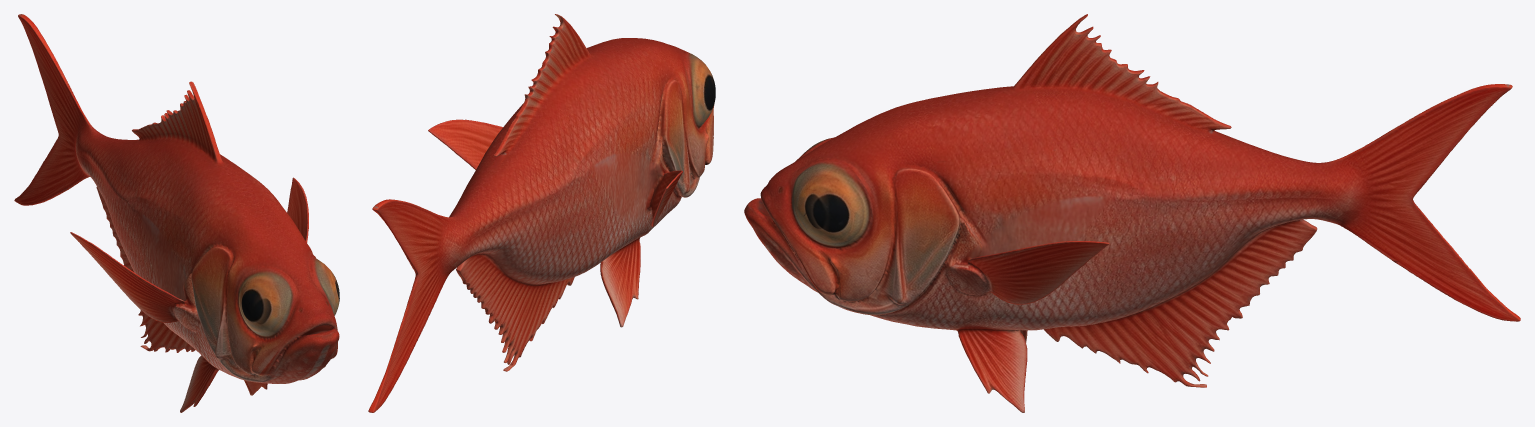
Rendered from kinmedai-22b647f37a82.glb.
3 renders of one model, left to right at view 1: azimuth 30°, elevation 25°; view 2: azimuth 150°, elevation 25°; view 3: azimuth 270°, elevation 25°, orthographic. The views are drawn at different scales.
Bounding box in the file's own units: 0.785 × 1.02 × 1.9.
1 material, 1 textured.
